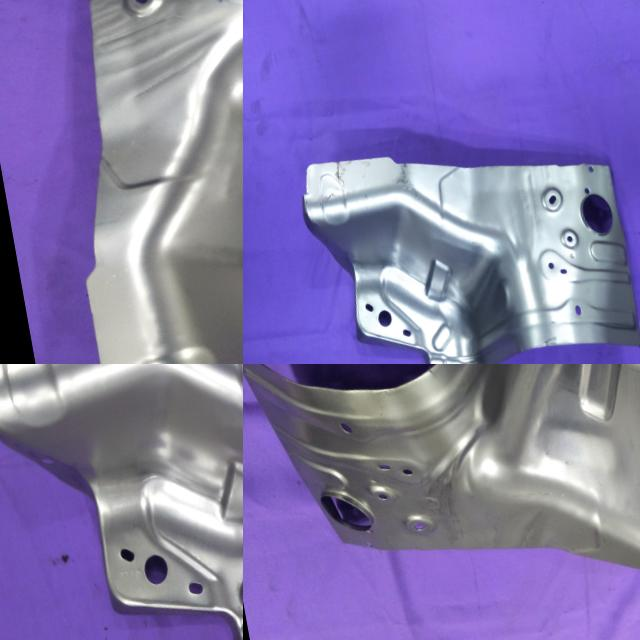Healthy: (13, 0, 243, 364), (0, 364, 243, 640)
rust: (320, 154, 358, 197)
